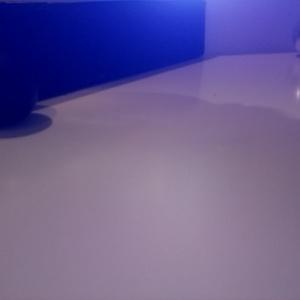alive_ball: (293, 24, 300, 54)
dead_ball: (1, 52, 35, 130)
